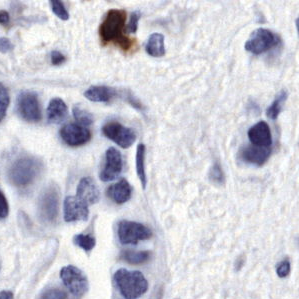Lymphocyte: (99, 8, 137, 55)
